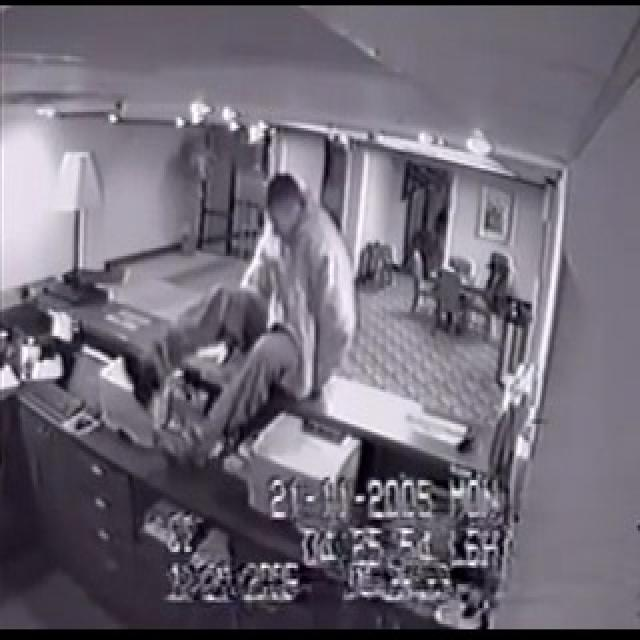thief: (128, 174, 364, 500)
